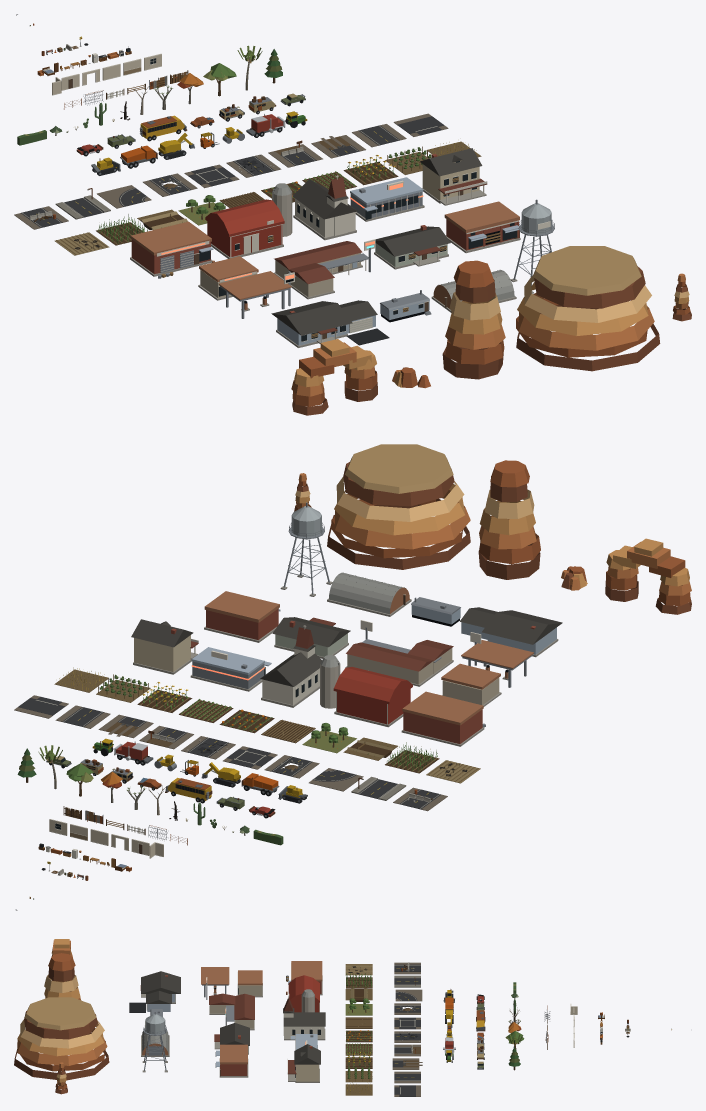
File: props.glb
3 views of the same model, one above another, from view 1: azimuth 30°, elevation 25°; view 2: azimuth 150°, elevation 25°; view 3: azimuth 270°, elevation 25° (orthographic). The views are drawn at different scales.
Parts seen in each view (by area): view 1: Rock_Mesa, Rock_Butte, Bld_Barn, Rock_Arch, Bld_SuburbHouse, Bld_AutoShop, Bld_Motel, Bld_GasStation, Bld_Church, Bld_Shop, Bld_Farmhouse, Bld_Ranch (+23 smaller); view 2: Rock_Mesa, Rock_Butte, Bld_Barn, Rock_Arch, Bld_GasStation, Bld_Motel, Bld_AutoShop, Bld_SuburbHouse, Bld_Church, Bld_Shop, Bld_Farmhouse, Bld_Warehouse (+25 smaller); view 3: Rock_Mesa, Bld_SuburbHouse, Bld_GasStation, Rock_Butte, Bld_Motel, Bld_Church, Bld_Farmhouse, Bld_Barn, Bld_Shop, Bld_WaterTower, Bld_Ranch, Bld_AutoShop (+24 smaller).
Part boxes in pixels (bbox=[...]): Rock_Mesa: bbox=[516, 246, 660, 371]; Rock_Butte: bbox=[442, 260, 505, 379]; Bld_Barn: bbox=[205, 183, 292, 258]; Rock_Arch: bbox=[291, 339, 377, 415]; Bld_SuburbHouse: bbox=[271, 300, 389, 347]; Bld_AutoShop: bbox=[130, 221, 214, 278]; Bld_Motel: bbox=[274, 239, 375, 299]; Bld_GasStation: bbox=[198, 256, 294, 318]; Bld_Church: bbox=[292, 175, 357, 240]; Bld_Shop: bbox=[444, 201, 520, 253]; Bld_Farmhouse: bbox=[420, 148, 487, 205]; Bld_Ranch: bbox=[374, 225, 450, 269]; Rock_Mesa: bbox=[327, 444, 470, 569]; Rock_Butte: bbox=[478, 460, 540, 579]; Bld_Barn: bbox=[320, 655, 412, 727]; Rock_Arch: bbox=[605, 538, 691, 614]; Bld_GasStation: bbox=[441, 632, 533, 706]; Bld_Motel: bbox=[345, 620, 453, 686]; Bld_AutoShop: bbox=[401, 691, 485, 746]; Bld_SuburbHouse: bbox=[460, 607, 562, 657]; Bld_Church: bbox=[260, 625, 321, 707]; Bld_Shop: bbox=[204, 591, 280, 642]; Bld_Farmhouse: bbox=[131, 619, 198, 674]; Bld_Warehouse: bbox=[327, 572, 411, 616]; Rock_Mesa: bbox=[14, 997, 109, 1080]; Bld_SuburbHouse: bbox=[129, 971, 180, 1012]; Bld_GasStation: bbox=[201, 967, 262, 999]; Rock_Butte: bbox=[44, 953, 81, 1000]; Bld_Motel: bbox=[209, 993, 254, 1030]; Bld_Church: bbox=[283, 996, 325, 1040]; Bld_Farmhouse: bbox=[287, 1044, 320, 1082]; Bld_Barn: bbox=[288, 975, 319, 1012]; Bld_Shop: bbox=[215, 1044, 248, 1077]; Bld_WaterTower: bbox=[142, 1011, 167, 1072]; Bld_Ranch: bbox=[214, 1023, 249, 1054]; Bld_AutoShop: bbox=[286, 961, 322, 995].
Size of the model in its own units: 94.94 by 22.03 by 203.
